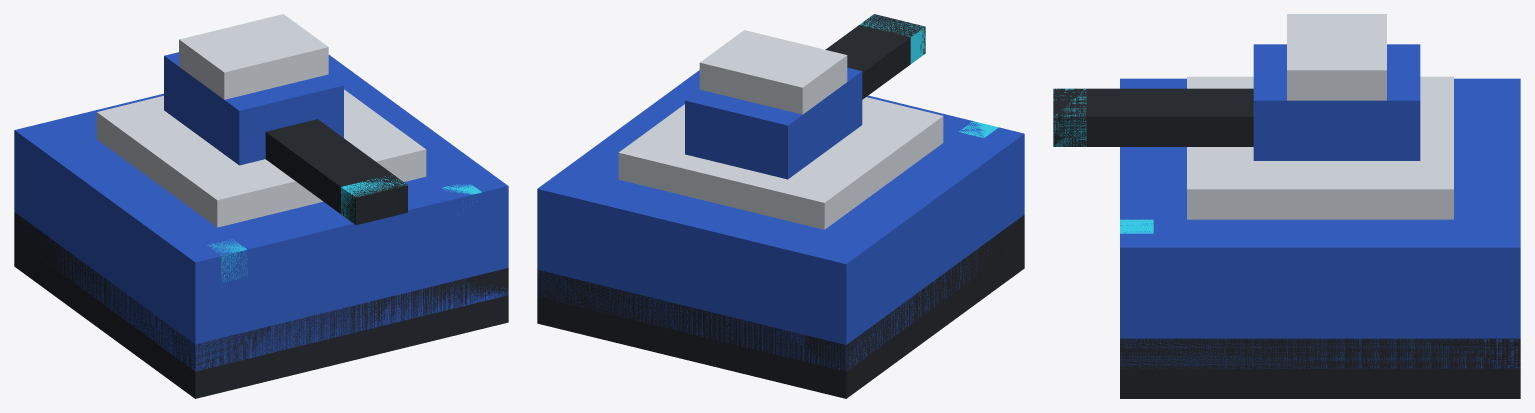
File: veh_hovertank.glb
3 renders of one model, left to right at view 1: azimuth 30°, elevation 25°; view 2: azimuth 150°, elevation 25°; view 3: azimuth 270°, elevation 25°, orthographic. The views are drawn at different scales.
Parts seen in each view (by area): view 1: Hull mesh, Skirt mesh, Deck mesh, Turret mesh, Top mesh, Cannon mesh, Light mesh, Muzzle mesh; view 2: Hull mesh, Skirt mesh, Deck mesh, Turret mesh, Top mesh, Cannon mesh, Muzzle mesh; view 3: Hull mesh, Skirt mesh, Deck mesh, Turret mesh, Cannon mesh, Top mesh, Muzzle mesh, Light mesh.
Boxes of the visible parts, x1,y1,x2,y2 form: Hull mesh: (14, 55, 508, 371); Skirt mesh: (14, 212, 508, 398); Deck mesh: (96, 89, 426, 227); Turret mesh: (164, 52, 343, 165); Top mesh: (179, 14, 328, 99); Cannon mesh: (265, 119, 407, 225); Light mesh: (207, 184, 481, 281); Muzzle mesh: (341, 175, 406, 224); Hull mesh: (537, 70, 1024, 371); Skirt mesh: (537, 215, 1024, 398); Deck mesh: (618, 97, 943, 229); Turret mesh: (685, 67, 862, 179); Top mesh: (699, 30, 847, 114); Cannon mesh: (825, 14, 925, 99); Muzzle mesh: (860, 15, 925, 63); Hull mesh: (1120, 78, 1520, 368); Skirt mesh: (1120, 338, 1520, 398); Deck mesh: (1187, 76, 1453, 219); Turret mesh: (1253, 44, 1420, 160); Cannon mesh: (1053, 88, 1253, 146); Top mesh: (1287, 14, 1386, 100); Muzzle mesh: (1053, 88, 1086, 146); Light mesh: (1120, 219, 1153, 233).
Size of the model in its own units: 12 by 9 by 14.
Materials: 1 (1 with a texture image).
